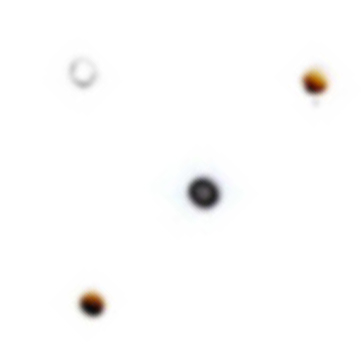abnormal: (57, 54, 112, 100)
cancer: (165, 160, 239, 227)
normal: (68, 277, 123, 333), (286, 54, 346, 105)
